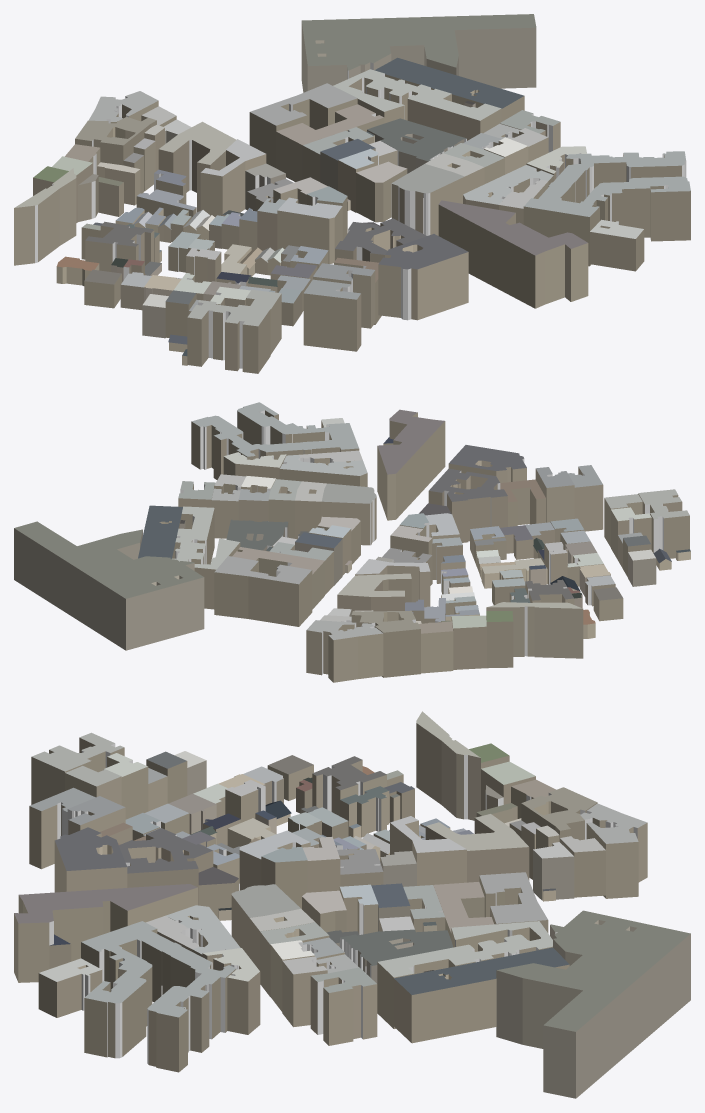
3 renders of one model, top to bottom at view 1: azimuth 30°, elevation 25°; view 2: azimuth 150°, elevation 25°; view 3: azimuth 270°, elevation 25°, orthographic. The views are drawn at different scales.
Parts seen in each view (by area): view 1: tuile; view 2: tuile; view 3: tuile.
Boxes of the visible parts, x1,y1,x2,y2 form: tuile: [14, 14, 690, 373]; tuile: [14, 402, 690, 682]; tuile: [14, 711, 690, 1098].
Bounding box in the file's own units: 323 × 32.29 × 289.
